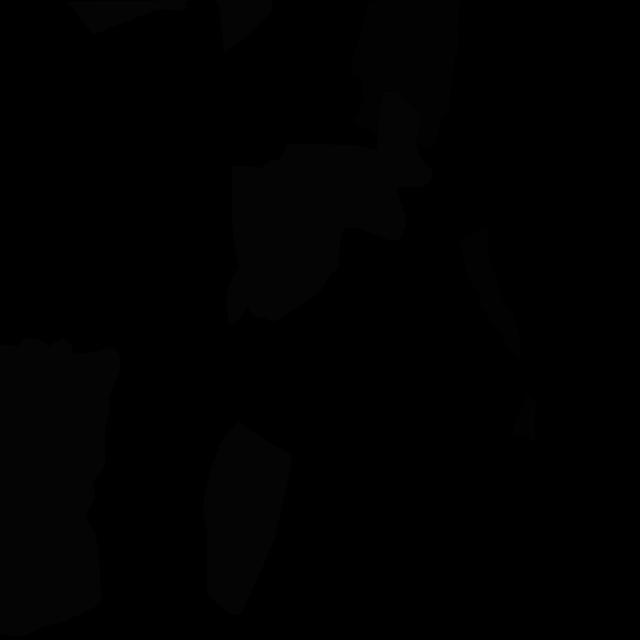cardboard: (350, 0, 461, 148), (460, 225, 522, 361), (510, 394, 536, 444)
soft_plastic: (226, 91, 433, 326), (0, 338, 120, 636), (203, 421, 292, 615), (66, 0, 189, 35), (216, 0, 272, 52)
